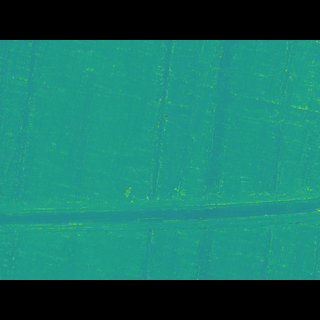Loch: (0, 180, 320, 217)
